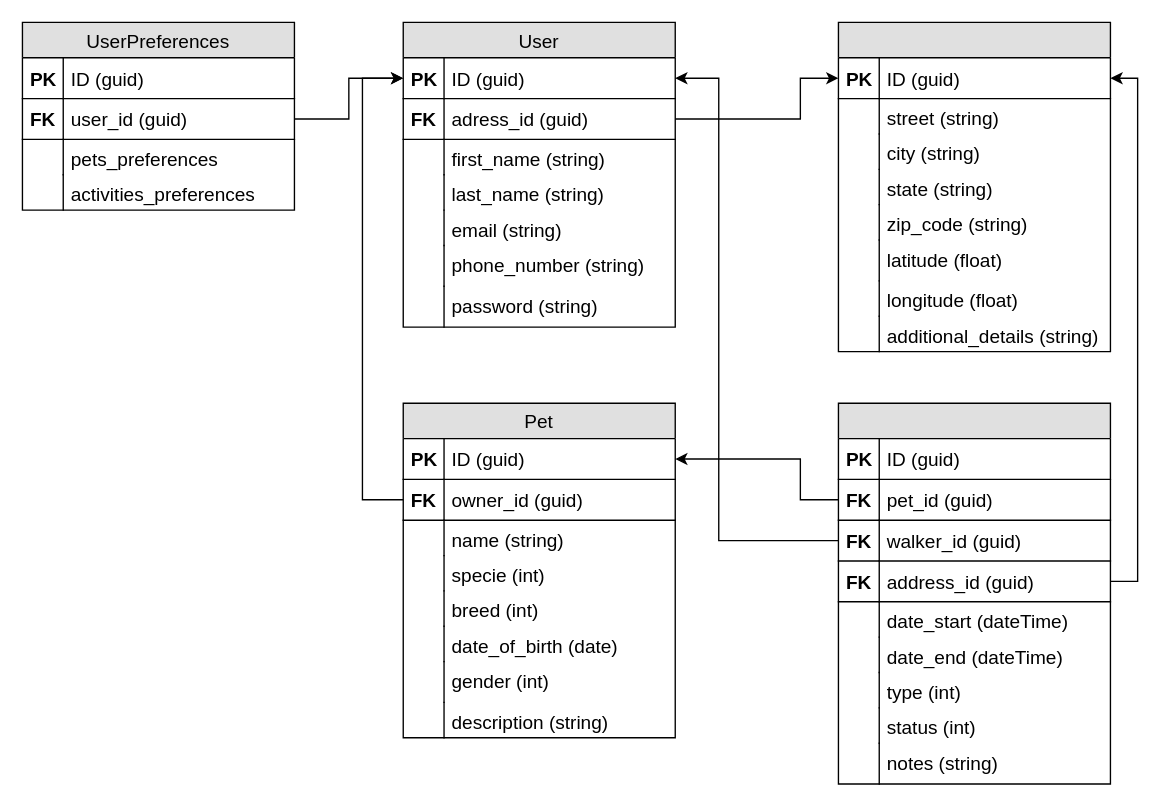
The diagram is 1160 pixels wide and 806 high, and some of its shapes have lost their labels. The box of each missing label's shape, as (x1, y1, x2, y2) in pixels:
Address: (837, 21, 1110, 352)
Appointment: (837, 402, 1110, 784)
